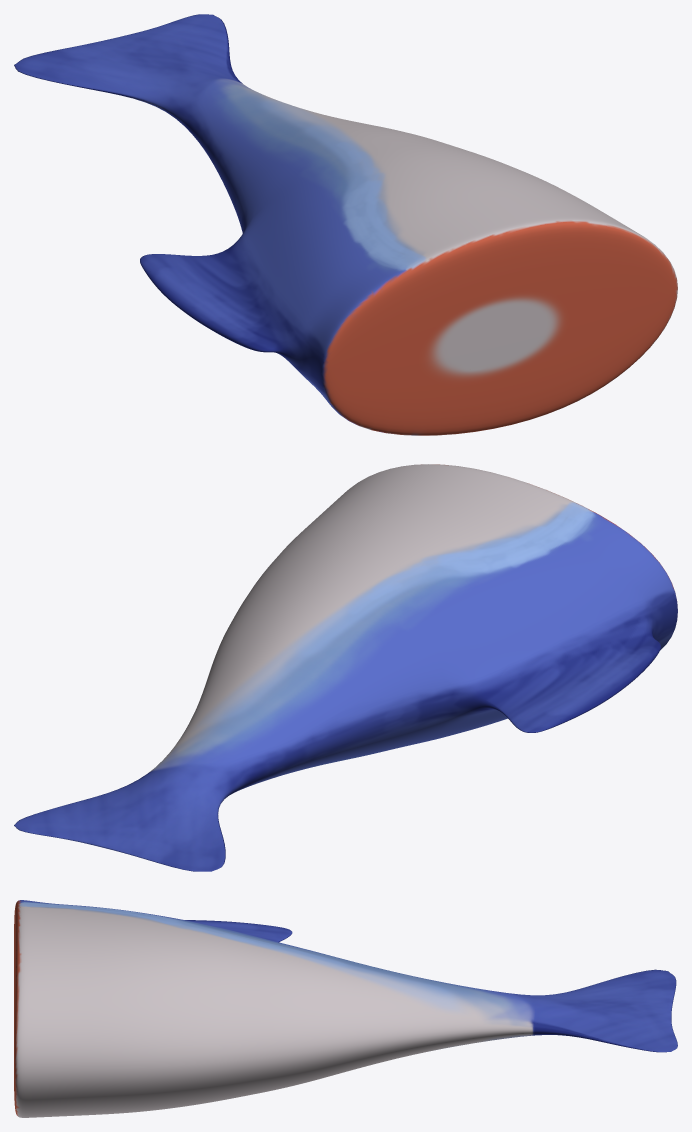
The model's file is SM_Salmon.fbx.
The picture shows the model from 3 angles, top to bottom: view 1: azimuth 30°, elevation 25°; view 2: azimuth 150°, elevation 25°; view 3: azimuth 270°, elevation 25°; orthographic projection. The views are drawn at different scales.
Visible parts, largest first — view 1: SM_Salmon; view 2: SM_Salmon; view 3: SM_Salmon.
Part boxes in pixels (x1,y1,x2,y2): SM_Salmon: (14, 14, 677, 435); SM_Salmon: (14, 464, 677, 871); SM_Salmon: (14, 900, 677, 1117).
Size of the model in its own units: 37.36 by 17.79 by 66.
